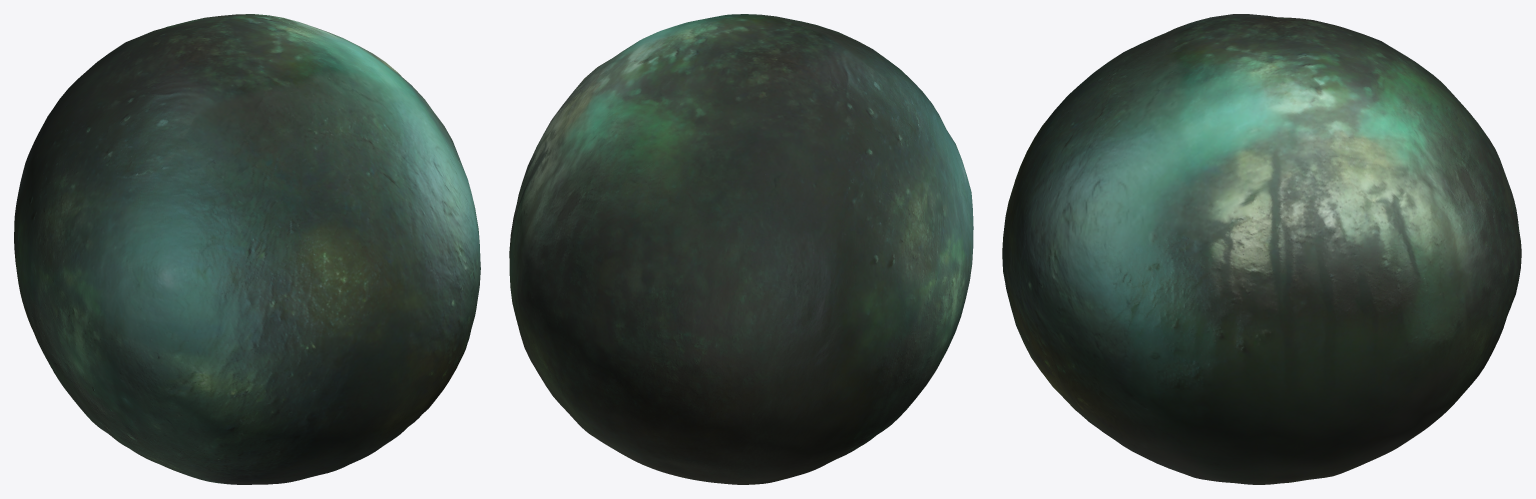
File: Molten_Earth_0809003919_texture-CAolQGpF.glb
3 renders of one model, left to right at view 1: azimuth 30°, elevation 25°; view 2: azimuth 150°, elevation 25°; view 3: azimuth 270°, elevation 25°, orthographic.
Bounding box in the file's own units: 1.53 × 1.56 × 1.74.
1 material, 1 textured.
